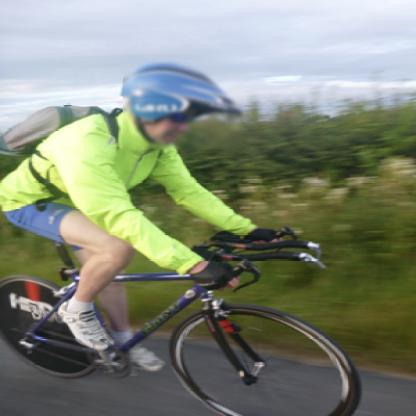With Helmet: (123, 55, 244, 150)
